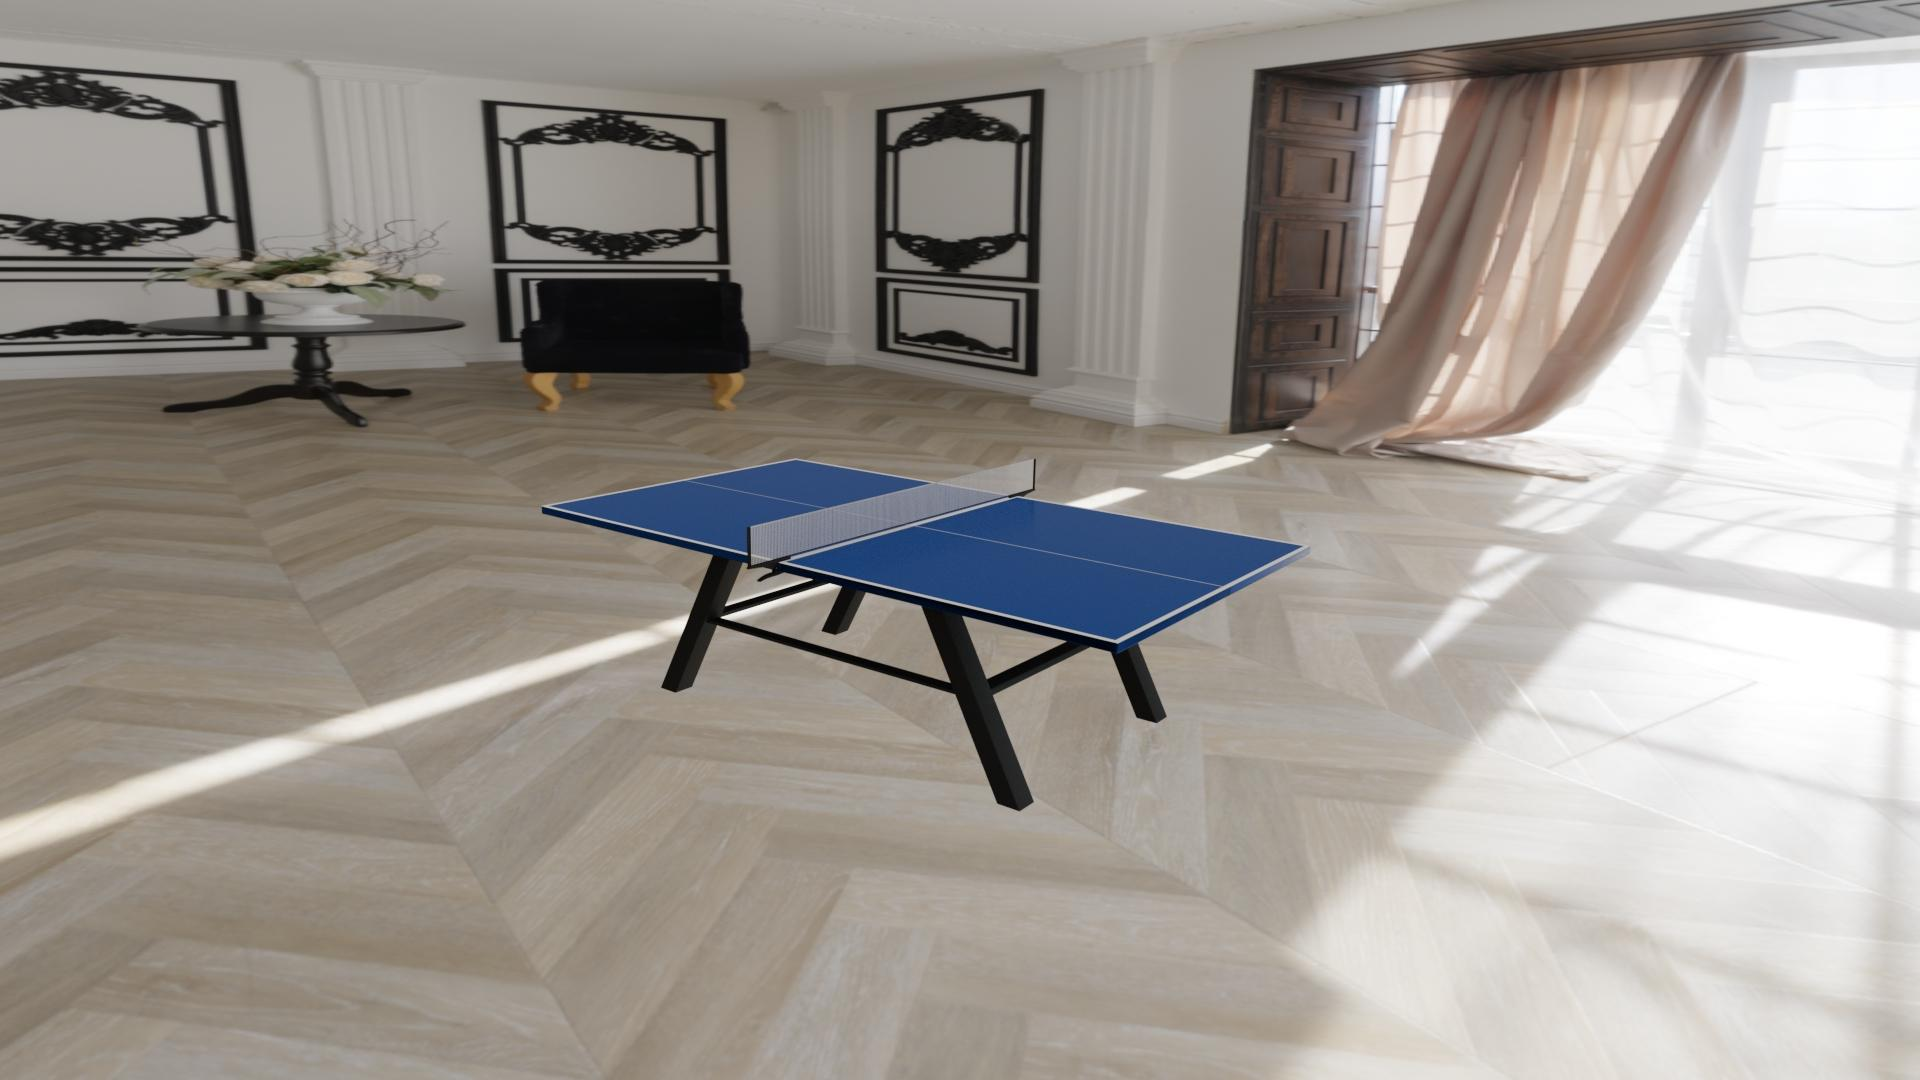table: (549, 460, 1304, 641)
